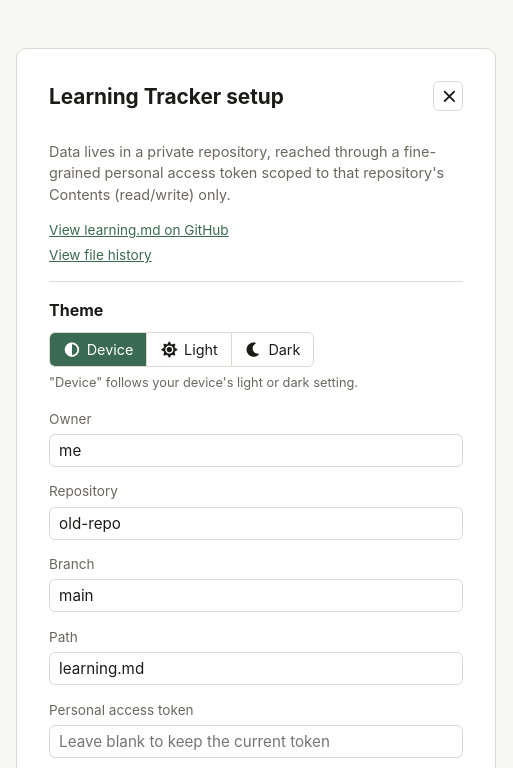
Test: switching repositories (C5) › rejects owner or repository names with characters GitHub does not allow (O2)
Replace the text in the field labelled "Owner" with "me/other" at (256, 450), box [49, 434, 463, 467]
(page scrolled)
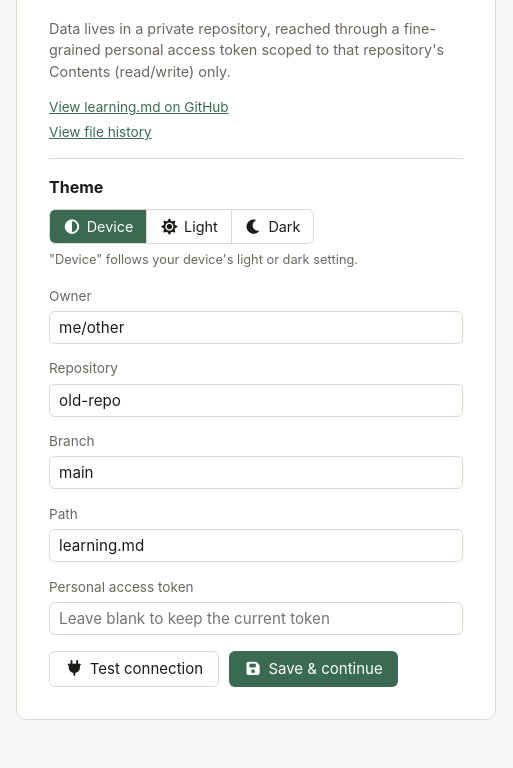
Click the button "Save & continue" at (313, 669), box [229, 651, 398, 687]
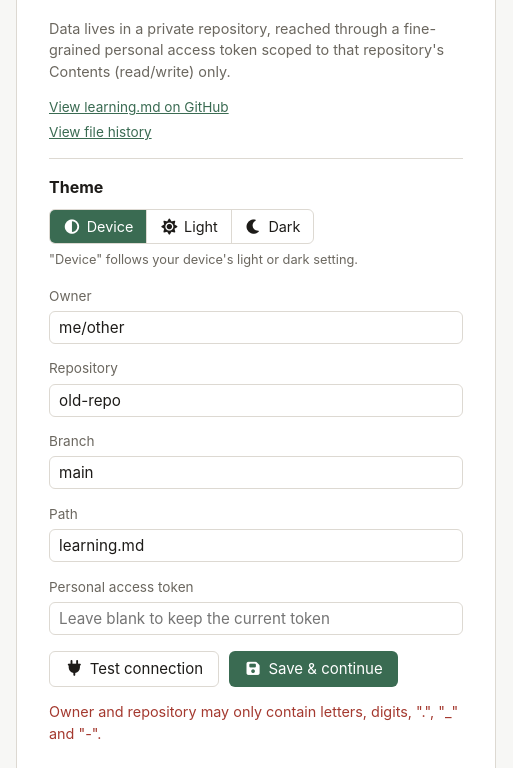
Expected: the text "may only contain" is shown, [49, 703, 458, 742]
